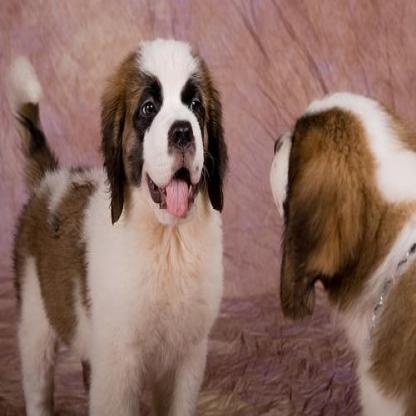Saint_Bernard: (8, 35, 227, 413), (270, 90, 414, 414)
